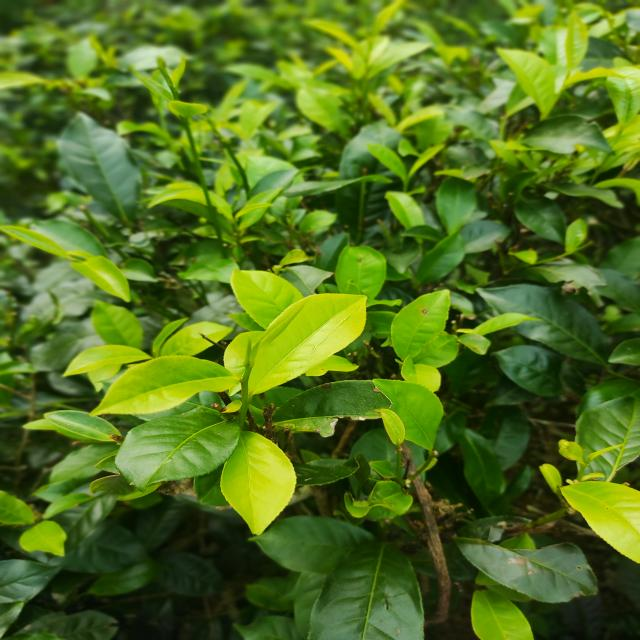unopened_leaf: (150, 54, 187, 104), (236, 326, 263, 394)
